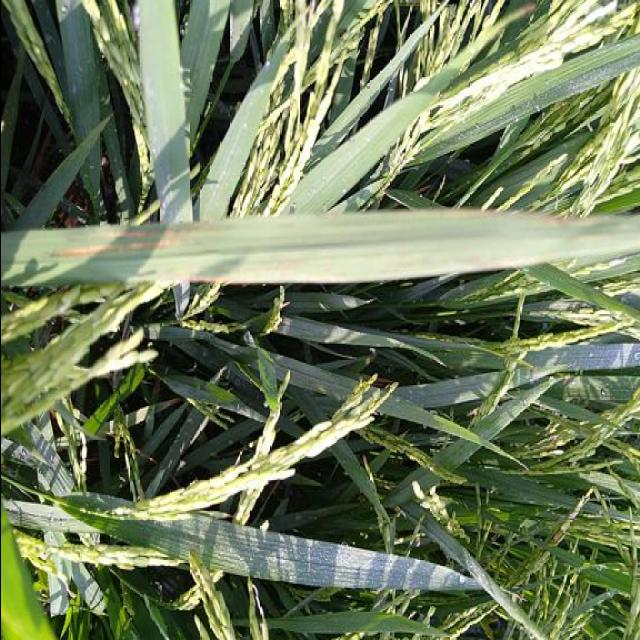Leaf Streak: (47, 224, 218, 259), (128, 262, 294, 284)
